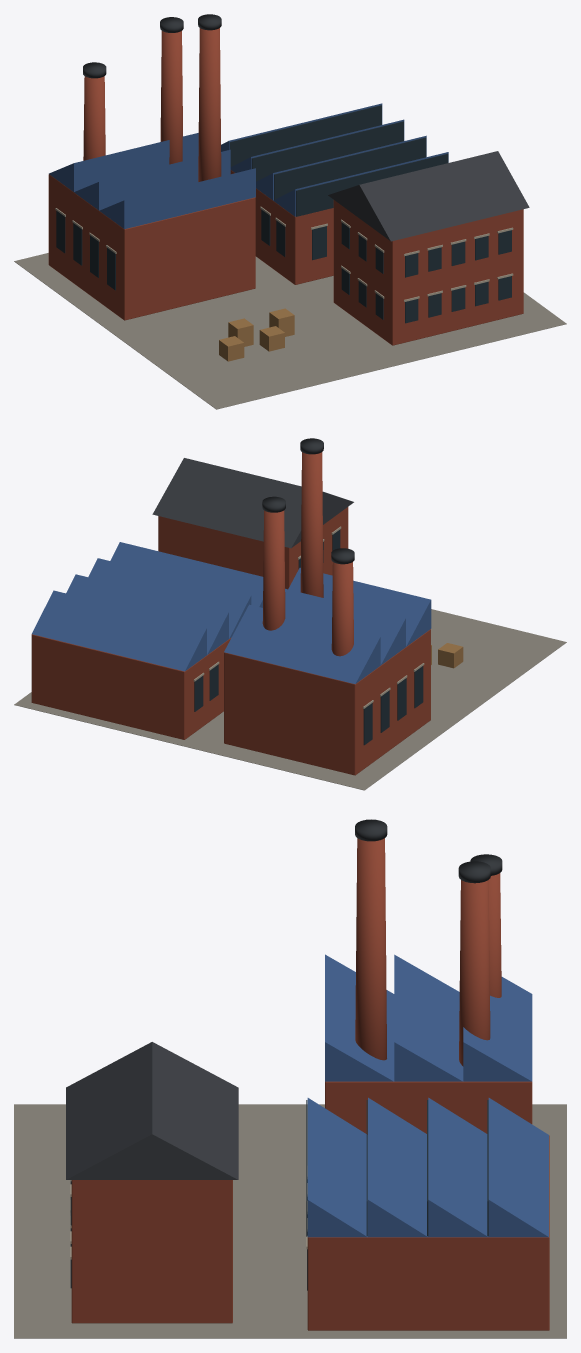
Rendered from fabrica.glb.
3 renders of one model, top to bottom at view 1: azimuth 30°, elevation 25°; view 2: azimuth 150°, elevation 25°; view 3: azimuth 270°, elevation 25°, orthographic. The views are drawn at different scales.
Visible parts, largest first — view 1: casa_forca, escritorio, chao_patio.003, telhado, chao_patio.001, chao_patio.002, galpao, dente.004, chamine, dente.006, vidro_dente.001, dente.005 (+13 smaller); view 2: casa_forca, galpao, telhado, chao_patio.003, dente.003, dente.006, escritorio, chao_patio.002, dente.002, dente.001, dente, chamine (+6 smaller); view 3: escritorio, galpao, telhado, chao_patio.001, chao_patio.003, dente.003, dente, dente.002, casa_forca, dente.005, dente.001, chamine (+8 smaller).
Part boxes in pixels (x1,y1,x2,y2): casa_forca: [48, 174, 255, 320]; escritorio: [333, 200, 523, 345]; chao_patio.003: [115, 292, 391, 409]; telhado: [328, 151, 529, 241]; chao_patio.001: [291, 282, 566, 366]; chao_patio.002: [14, 253, 289, 335]; galpao: [230, 170, 333, 284]; dente.004: [99, 168, 255, 229]; chamine: [198, 28, 221, 181]; dente.006: [49, 133, 198, 191]; vidro_dente.001: [274, 137, 426, 199]; dente.005: [74, 149, 230, 210]; casa_forca: [224, 629, 430, 775]; galpao: [31, 634, 231, 739]; telhado: [152, 458, 353, 548]; chao_patio.003: [431, 609, 566, 715]; dente.003: [32, 590, 206, 671]; dente.006: [224, 604, 380, 683]; escritorio: [158, 507, 348, 589]; chao_patio.002: [189, 708, 465, 790]; dente.002: [66, 574, 228, 654]; dente.001: [88, 558, 251, 638]; dente: [110, 542, 263, 607]; chamine: [300, 452, 323, 597]; escritorio: [71, 1180, 232, 1323]; galpao: [307, 1135, 549, 1330]; telhado: [66, 1042, 238, 1179]; chao_patio.001: [14, 1221, 290, 1338]; chao_patio.003: [14, 1104, 290, 1221]; dente.003: [488, 1098, 548, 1237]; dente: [307, 1098, 367, 1237]; dente.002: [428, 1097, 488, 1237]; casa_forca: [325, 1081, 532, 1134]; dente.005: [394, 954, 463, 1081]; dente.001: [368, 1097, 427, 1237]; chamine: [355, 838, 386, 1060].
Size of the model in its own units: 24 by 17.6 by 24.
